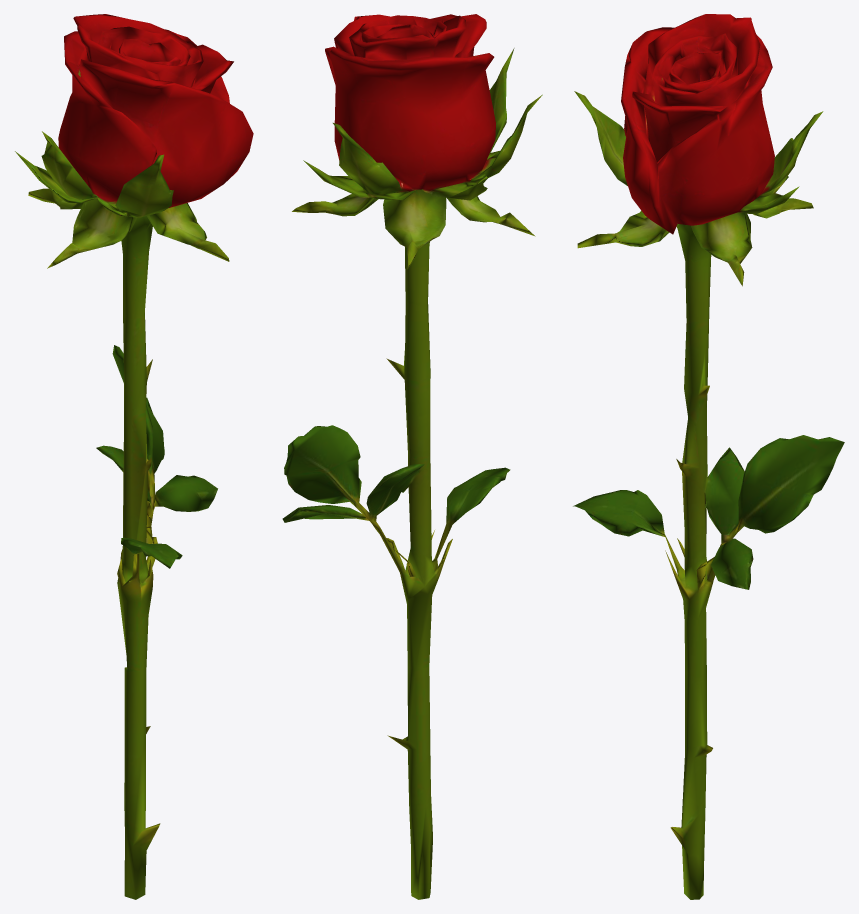
File: Red Rose2.glb
3 renders of one model, left to right at view 1: azimuth 30°, elevation 25°; view 2: azimuth 150°, elevation 25°; view 3: azimuth 270°, elevation 25°, orthographic. The views are drawn at different scales.
Parts seen in each view (by area): view 1: tripo_node_8d5c123f-f80b-47db-80fb-46eca3c8ee9a; view 2: tripo_node_8d5c123f-f80b-47db-80fb-46eca3c8ee9a; view 3: tripo_node_8d5c123f-f80b-47db-80fb-46eca3c8ee9a.
Boxes of the visible parts, x1,y1,x2,y2 form: tripo_node_8d5c123f-f80b-47db-80fb-46eca3c8ee9a: (15,14,253,899); tripo_node_8d5c123f-f80b-47db-80fb-46eca3c8ee9a: (282,14,542,899); tripo_node_8d5c123f-f80b-47db-80fb-46eca3c8ee9a: (573,14,844,899).
Bounding box in the file's own units: 0.2607 × 0.9996 × 0.286.
1 material, 1 textured.
